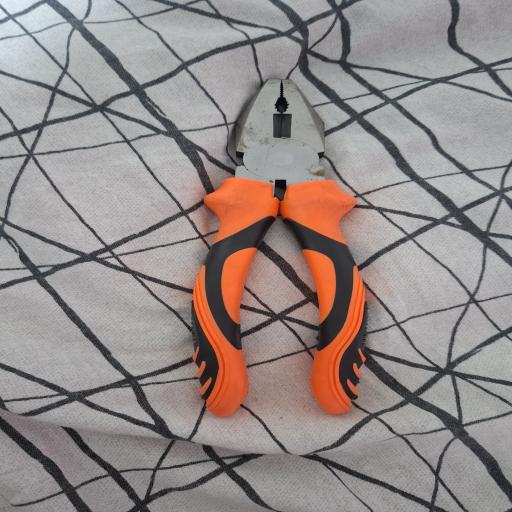alicate: (186, 76, 372, 420)
